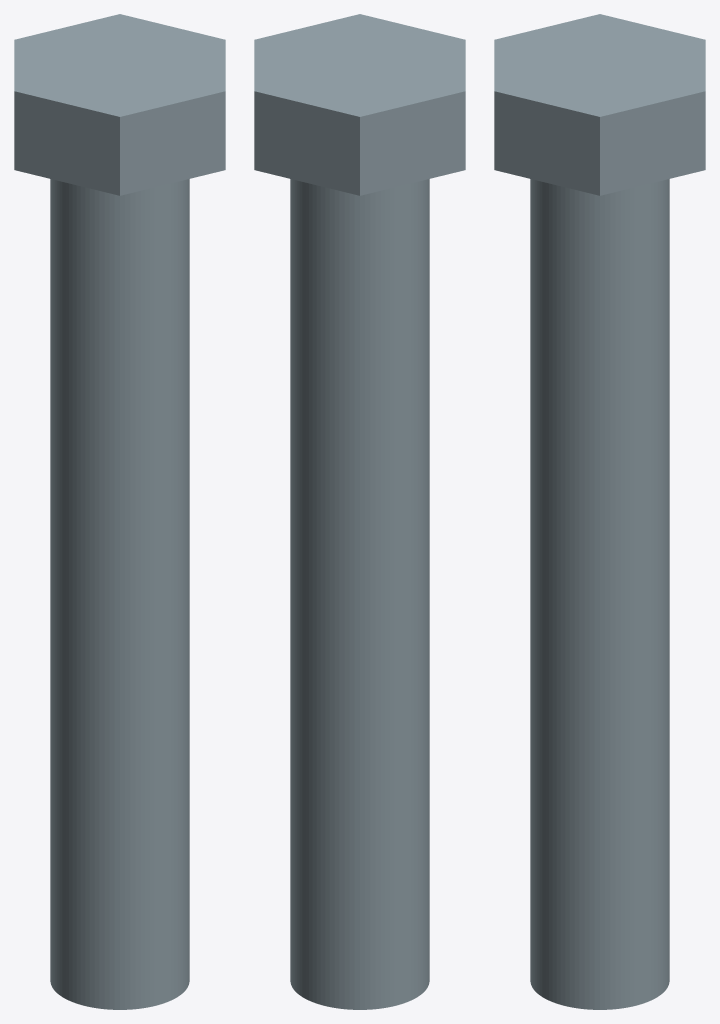
File: rod-bolt.glb
3 renders of one model, left to right at view 1: azimuth 30°, elevation 25°; view 2: azimuth 150°, elevation 25°; view 3: azimuth 270°, elevation 25°, orthographic.
Parts seen in each view (by area): view 1: rod-bolt; view 2: rod-bolt; view 3: rod-bolt.
Part boxes in pixels (x1,y1,x2,y2): rod-bolt: (14,14,225,1009); rod-bolt: (254,14,465,1009); rod-bolt: (494,14,705,1009).
Bounding box in the file's own units: 0.014 × 0.058 × 0.0121.
